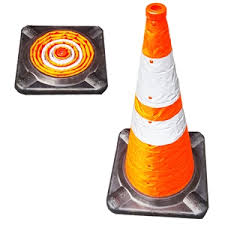cones: (105, 1, 209, 216)
